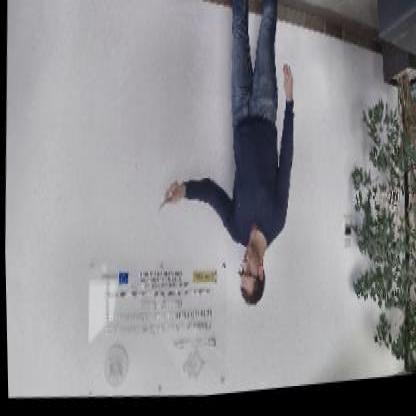knife: (154, 177, 178, 218)
